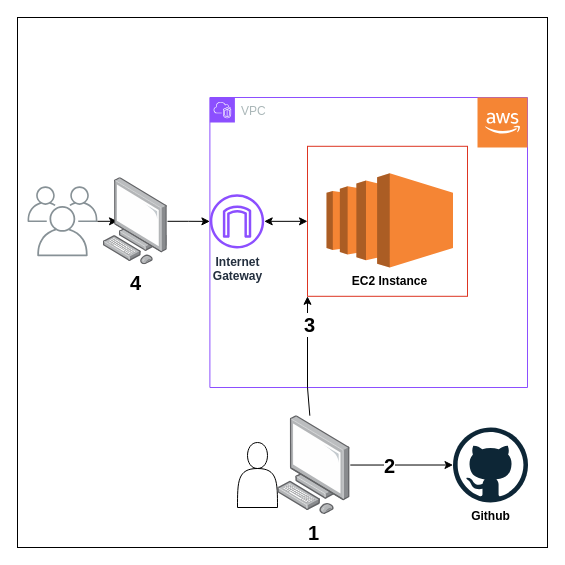
Some shapes in this 565 by 565 pixel diagram are drawn without their labels. The shapes that lost their labels are listed below. From the top down, each one's box as (x1, y1, x2, y2) in pixels, then its label:
(27, 186, 97, 256): users
(306, 145, 468, 296): EC2 Security group
(236, 442, 278, 508): Developer
